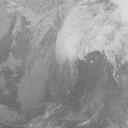cyclone: (57, 22, 114, 69)
